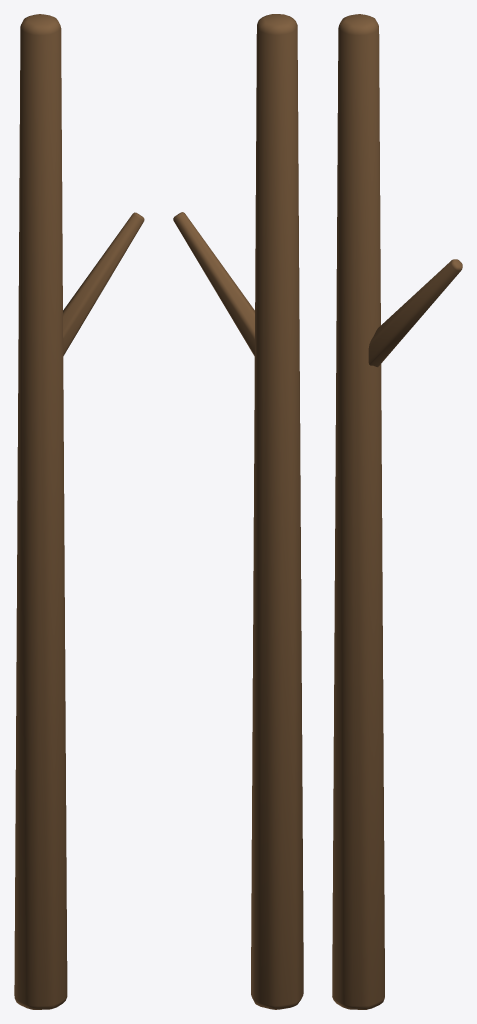
Rendered from stick.glb.
3 views of the same model, side by side, from view 1: azimuth 30°, elevation 25°; view 2: azimuth 150°, elevation 25°; view 3: azimuth 330°, elevation 25° (orthographic).
Visible parts, largest first — view 1: wpn_stick; view 2: wpn_stick; view 3: wpn_stick.
Boxes of the visible parts, x1=… form: wpn_stick: x1=14, y1=14, x2=144, y2=1009; wpn_stick: x1=173, y1=14, x2=303, y2=1009; wpn_stick: x1=332, y1=14, x2=462, y2=1009.
Size of the model in its own units: 0.2281 by 1.7 by 0.0829.
